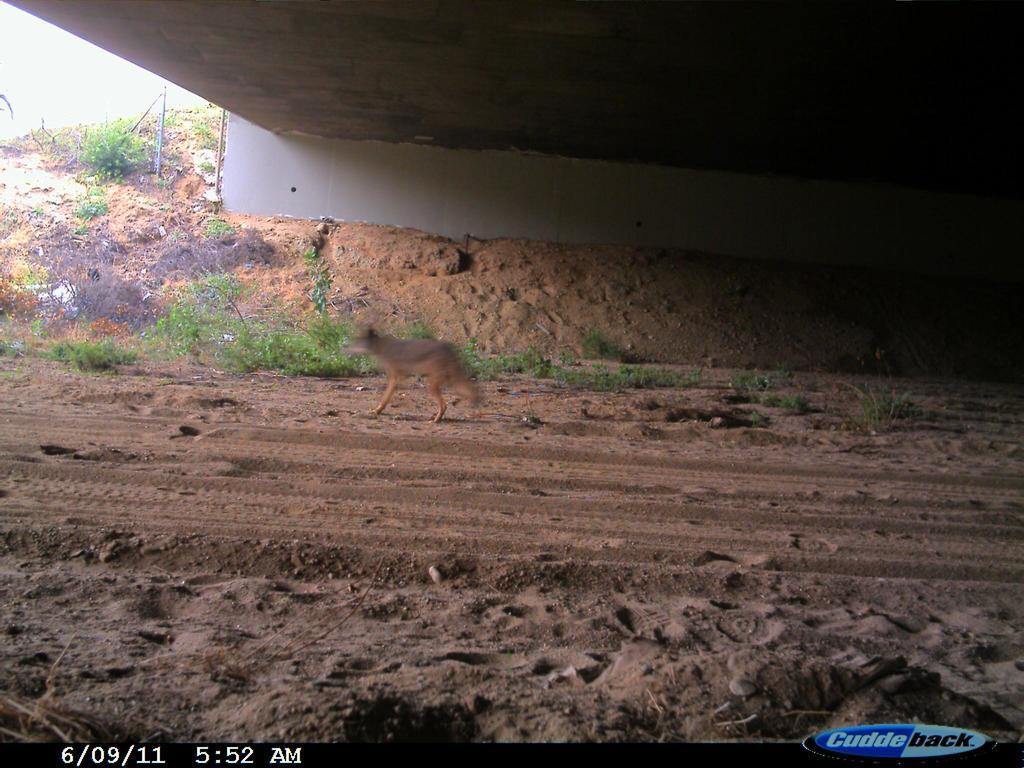coyote: (340, 321, 495, 436)
